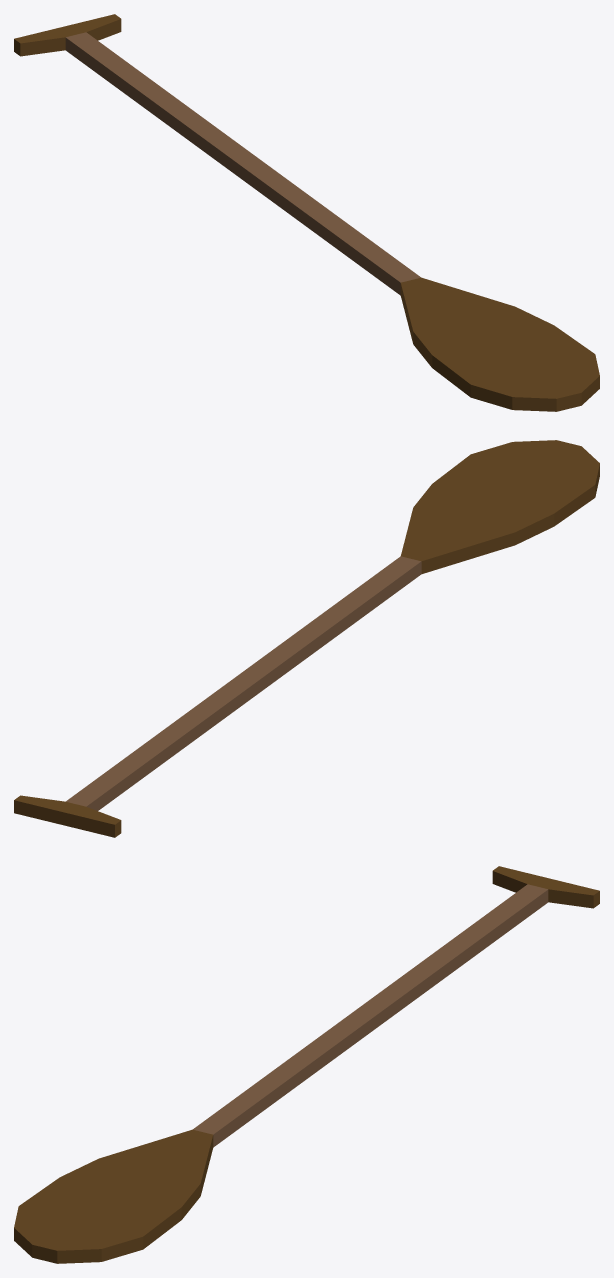
The model's file is Paddle.glb.
3 views of the same model, one above another, from view 1: azimuth 30°, elevation 25°; view 2: azimuth 150°, elevation 25°; view 3: azimuth 330°, elevation 25° (orthographic).
Visible parts, largest first — view 1: Paddle; view 2: Paddle; view 3: Paddle.
Boxes of the visible parts, box(x1,y1,x2,y2) form: Paddle: box(14, 14, 599, 411); Paddle: box(14, 440, 599, 837); Paddle: box(14, 866, 599, 1263).
Bounding box in the file's own units: 0.4092 × 0.0409 × 2.87.
1 material, 1 textured.
